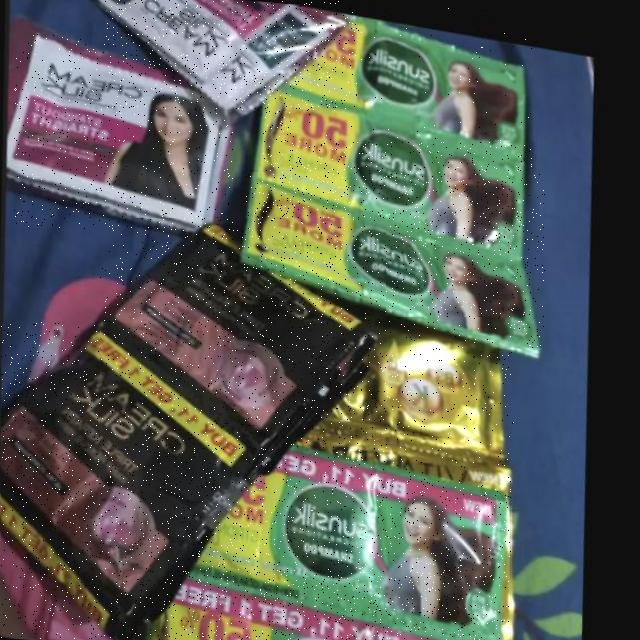wrapper: (1, 322, 275, 638), (100, 218, 386, 469), (190, 447, 511, 640), (245, 172, 545, 347), (263, 81, 532, 247), (14, 34, 233, 228), (301, 317, 514, 481), (296, 8, 536, 142), (105, 0, 357, 111), (148, 576, 472, 640)
